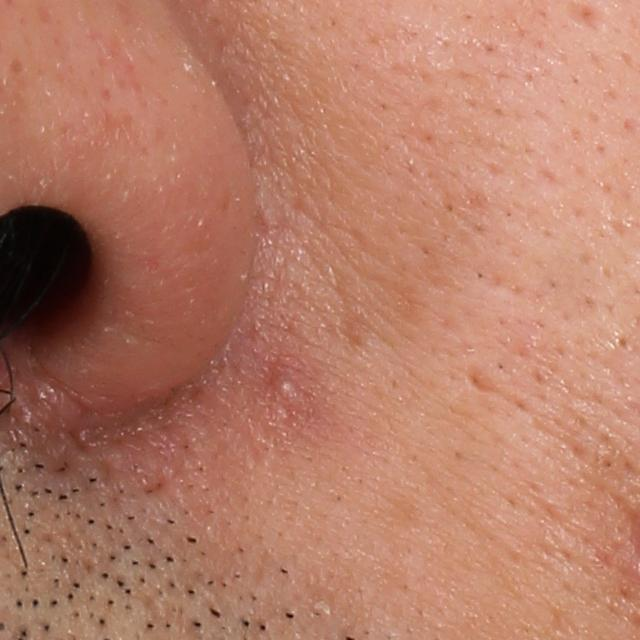atrophic_scar: (462, 366, 500, 394)
pustule: (266, 374, 308, 410)
